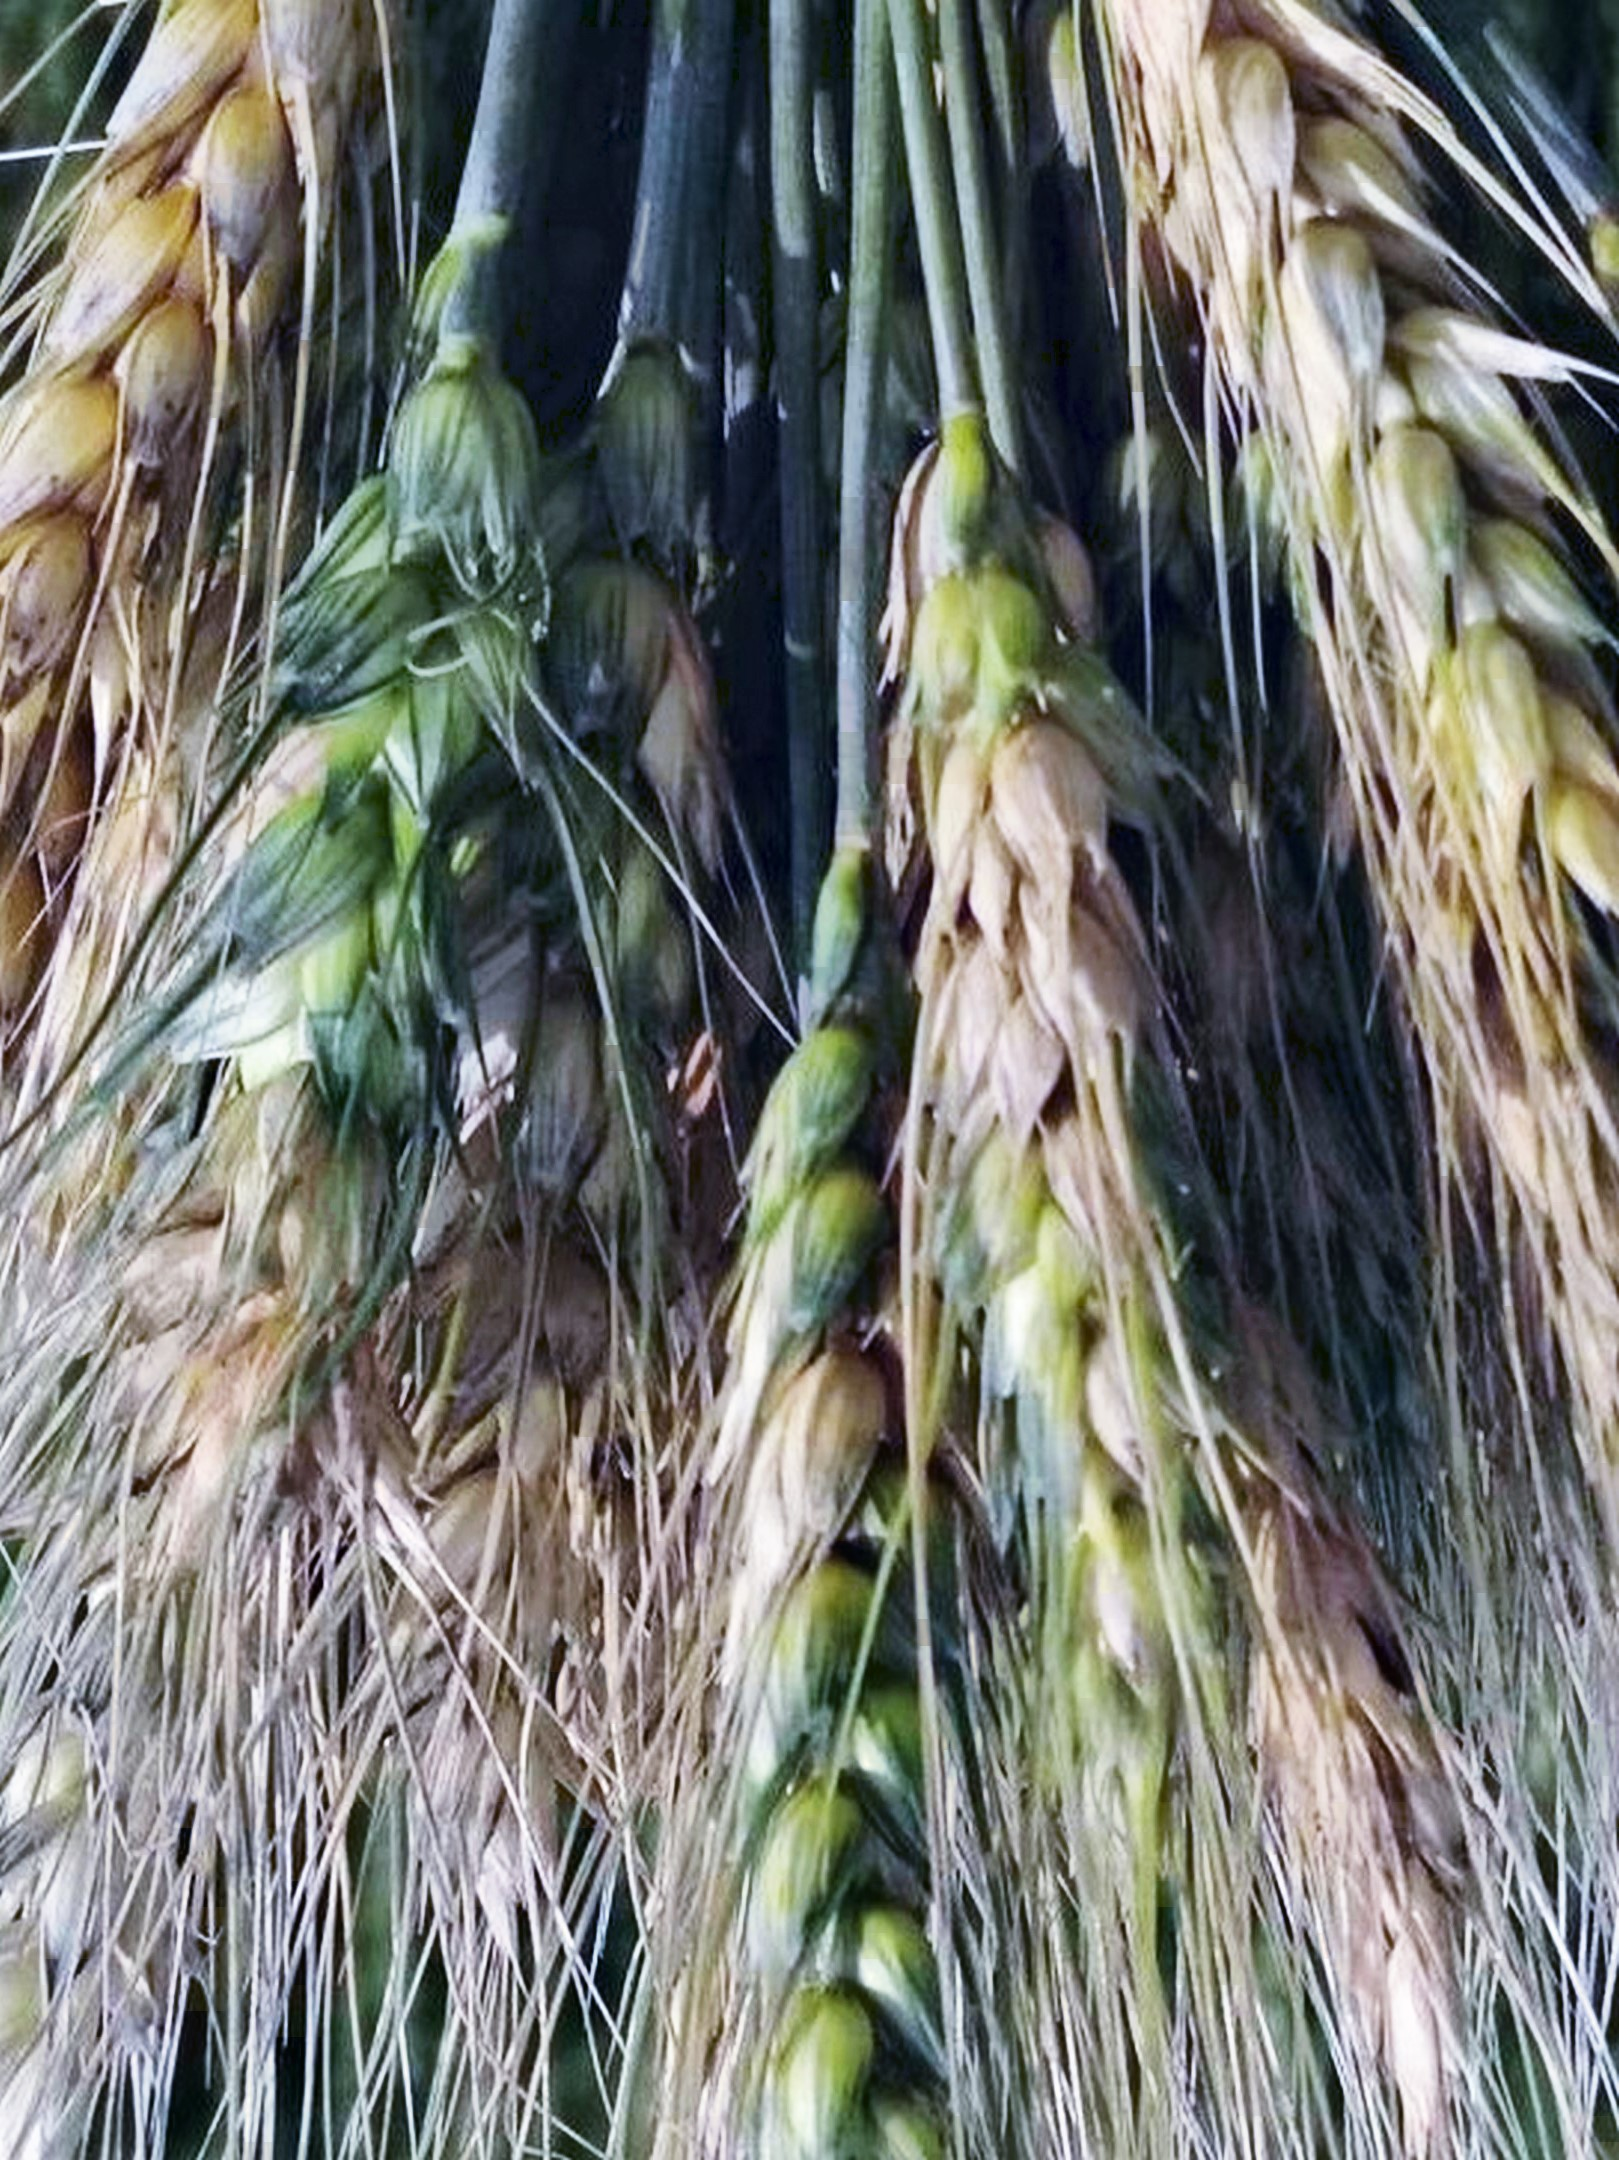Wheat scab: (867, 383, 1282, 1890)
